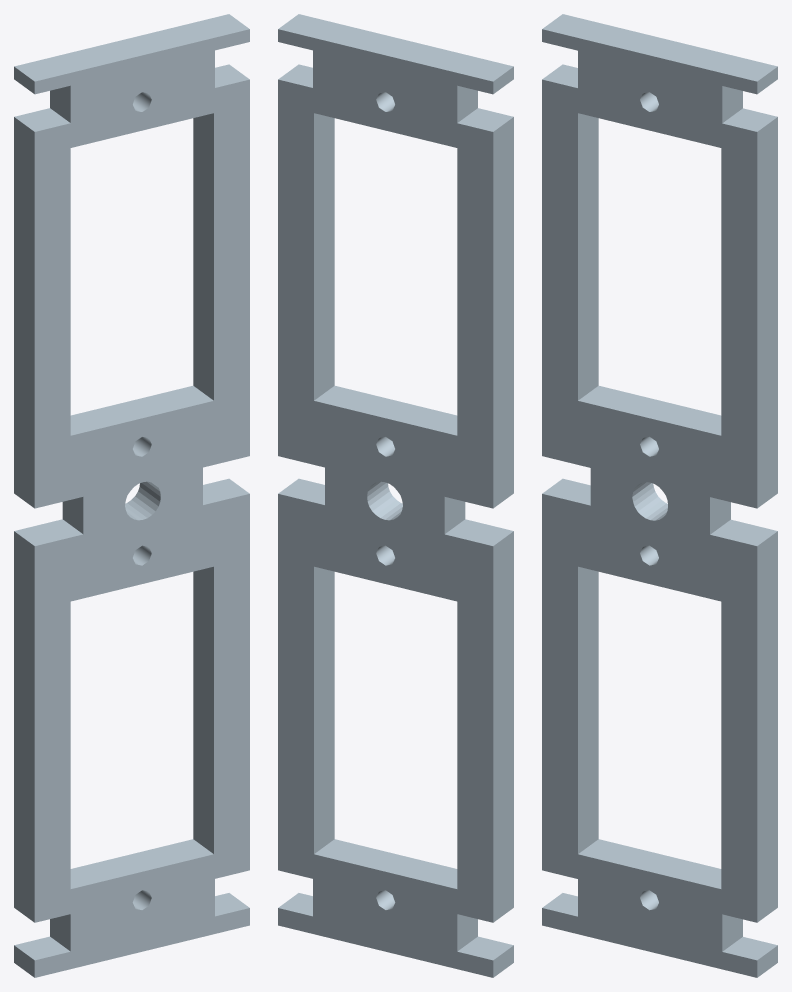
Rendered from prt0008.obj.
3 views of the same model, side by side, from view 1: azimuth 30°, elevation 25°; view 2: azimuth 150°, elevation 25°; view 3: azimuth 330°, elevation 25° (orthographic).
Parts seen in each view (by area): view 1: 1; view 2: 1; view 3: 1.
Boxes of the visible parts, bbox=[...] form: 1: bbox=[14, 14, 249, 977]; 1: bbox=[278, 14, 513, 977]; 1: bbox=[542, 14, 777, 977].
Bounding box in the file's own units: 17.99 × 71.63 × 3.
